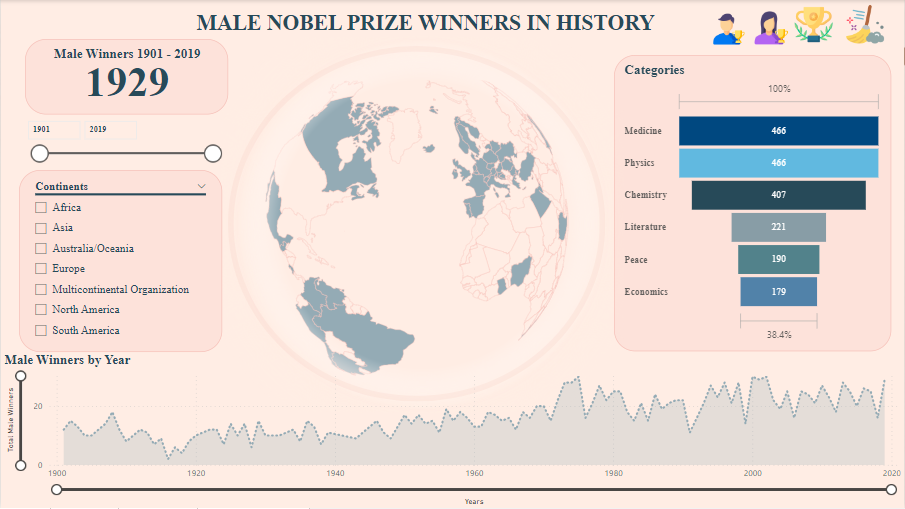

This screenshot's page, from the dashboard's own definition file:
{"tool":"powerbi","page":{"name":"Male","canvas":[1280,720],"ordinal":1},"visuals":[{"type":"shapeMap","fields":{"Category":["nobel_prize_awarded_1901_2019.Countries"],"Value":["AMeasures.Men"]},"box":[341.2,108.8,494.4,450],"z":0},{"type":"image","box":[252.6,47,690.5,542.7],"z":1000},{"type":"shape","box":[321.1,65.8,534.7,503.8],"z":2000},{"type":"slicer","fields":{"Values":["nobel_prize_awarded_1901_2019.Continents"]},"box":[25,240.4,288,258.2],"z":3000},{"type":"card","title":"Male Winners 1901 - 2019","fields":{"Values":["AMeasures.Men"]},"box":[33.3,54.7,288,107.1],"z":4000},{"type":"slicer","fields":{"Values":["nobel_prize_awarded_1901_2019.Year"]},"box":[26.2,161.9,295.1,78.5],"z":5000},{"type":"stackedAreaChart","title":"Male Winners by Year","fields":{"Category":["nobel_prize_awarded_1901_2019.Year"],"Y":["AMeasures.Men"]},"box":[0,498.4,1280.3,223],"z":6000},{"type":"funnel","title":"Categories","fields":{"Category":["nobel_prize_awarded_1901_2019.Category"],"Y":["AMeasures.Men"]},"box":[868.8,78.5,392.7,420.1],"z":7000},{"type":"image","box":[1187.6,1.3,73.9,65.8],"z":8000},{"type":"image","box":[1055.6,0,71.4,78.5],"z":9000},{"type":"image","box":[998.5,2.4,66.6,76.2],"z":10000},{"type":"image","box":[1117.5,2.4,70.2,64.3],"z":11000},{"type":"shape","title":"MALE NOBEL PRIZE WINNERS IN HISTORY","box":[290.4,16.7,698.6,35.7],"z":12000}]}

Visuals, with their boxes in screenshot pixels (x1, y1, x2, y2), scaled from the page's 1280x720 canvas onto the 905x509 screenshot:
shapeMap - nobel_prize_awarded_1901_2019.Countries x AMeasures.Men: pyautogui.locateOnScreen(241, 77, 591, 395)
image: pyautogui.locateOnScreen(179, 33, 667, 417)
shape: pyautogui.locateOnScreen(227, 47, 605, 403)
slicer - nobel_prize_awarded_1901_2019.Continents: pyautogui.locateOnScreen(18, 170, 221, 352)
"Male Winners 1901 - 2019" card: pyautogui.locateOnScreen(24, 39, 227, 114)
slicer - nobel_prize_awarded_1901_2019.Year: pyautogui.locateOnScreen(19, 114, 227, 170)
"Male Winners by Year" stackedAreaChart: pyautogui.locateOnScreen(0, 352, 904, 508)
"Categories" funnel: pyautogui.locateOnScreen(614, 55, 892, 352)
image: pyautogui.locateOnScreen(840, 1, 892, 47)
image: pyautogui.locateOnScreen(746, 0, 797, 55)
image: pyautogui.locateOnScreen(706, 2, 753, 56)
image: pyautogui.locateOnScreen(790, 2, 840, 47)
"MALE NOBEL PRIZE WINNERS IN HISTORY" shape: pyautogui.locateOnScreen(205, 12, 699, 37)
